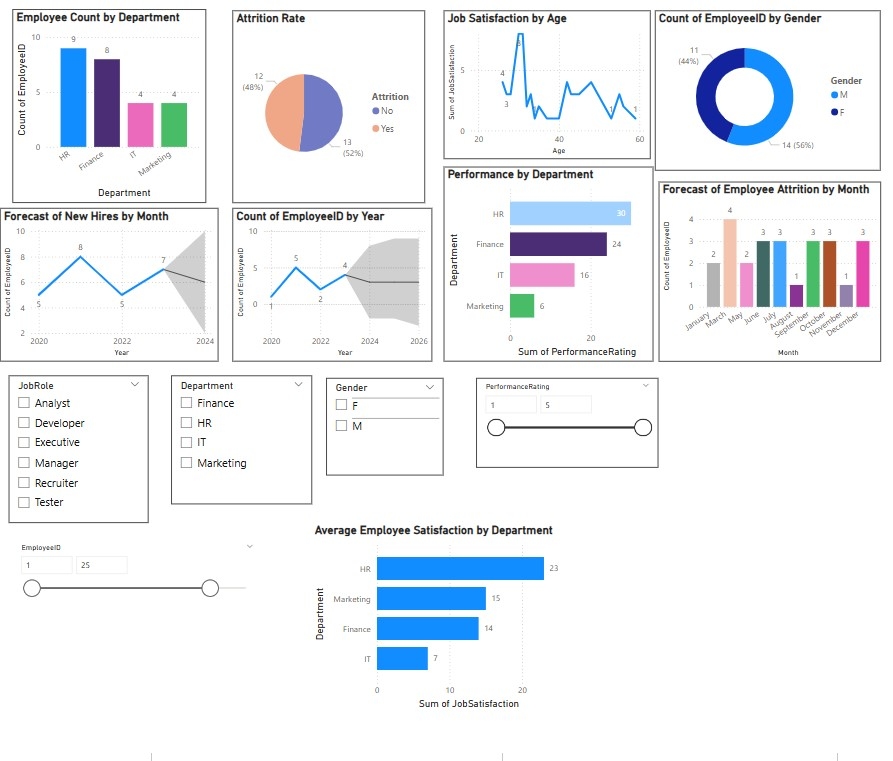

What the dashboard file says about the page in this screenshot:
{"tool":"powerbi","page":{"name":"Human Resources Analytics -1","canvas":[1300,1100],"ordinal":0},"visuals":[{"type":"clusteredColumnChart","title":"Employee Count by Department","fields":{"Category":["Sheet1.Department"],"Y":["CountNonNull(Sheet1.EmployeeID)"]},"box":[19,16.6,281.4,281.4],"z":0},{"type":"pieChart","title":"Attrition Rate","fields":{"Category":["Sheet1.Attrition"],"Y":["CountNonNull(Sheet1.EmployeeID)"]},"box":[337.6,17.8,279.9,279.9],"z":1000},{"type":"clusteredBarChart","title":"Performance by Department","fields":{"Category":["Sheet1.Department"],"Y":["Sum(Sheet1.PerformanceRating)"]},"box":[645.8,244.9,304.8,283],"z":2000},{"type":"lineChart","title":"Job Satisfaction by Age","fields":{"Category":["Sheet1.Age"],"Y":["Sum(Sheet1.JobSatisfaction)"]},"box":[645.8,18.1,301.1,215.9],"z":3000},{"type":"donutChart","fields":{"Category":["Sheet1.Gender"],"Y":["CountNonNull(Sheet1.EmployeeID)"]},"box":[952.3,17.8,327.7,232.7],"z":4000},{"type":"slicer","fields":{"Values":["Sheet1.Department"]},"box":[248.5,549.6,205,186.8],"z":5000},{"type":"clusteredColumnChart","title":"Forecast of Employee Attrition by Month","fields":{"Category":["Sheet1.HireDate.Variation.Date Hierarchy.Month"],"Y":["CountNonNull(Sheet1.EmployeeID)"]},"box":[957.8,266.7,322.9,261.2],"z":6000},{"type":"lineChart","fields":{"Category":["Sheet1.HireDate.Variation.Date Hierarchy.Year","Sheet1.HireDate.Variation.Date Hierarchy.Quarter","Sheet1.HireDate.Variation.Date Hierarchy.Month","Sheet1.HireDate.Variation.Date Hierarchy.Day"],"Y":["CountNonNull(Sheet1.EmployeeID)"]},"box":[337.4,304.8,290.2,223.1],"z":7000},{"type":"lineChart","title":"Forecast of New Hires by Month","fields":{"Category":["Sheet1.HireDate.Variation.Date Hierarchy.Year","Sheet1.HireDate.Variation.Date Hierarchy.Quarter","Sheet1.HireDate.Variation.Date Hierarchy.Month","Sheet1.HireDate.Variation.Date Hierarchy.Day"],"Y":["CountNonNull(Sheet1.EmployeeID)"]},"box":[0,304.8,317.5,223.1],"z":8000},{"type":"slicer","fields":{"Values":["Sheet1.JobRole"]},"box":[12.7,549.6,203.2,214.1],"z":9000},{"type":"slicer","fields":{"Values":["Sheet1.Gender"]},"box":[475.3,553.3,170.5,141.5],"z":10000},{"type":"slicer","fields":{"Values":["Sheet1.PerformanceRating"]},"box":[693,553.3,264.8,130.6],"z":11000},{"type":"clusteredBarChart","title":"Average Employee Satisfaction by Department","fields":{"Category":["Human Resources Analytics.Department"],"Y":["Sum(Human Resources Analytics.JobSatisfaction)"]},"box":[453.5,763.7,375.5,275.7],"z":12000},{"type":"slicer","fields":{"Values":["Human Resources Analytics.EmployeeID"]},"box":[18.1,787.3,362.8,128.8],"z":13000}]}

Visuals, with their boxes in screenshot pixels (x1, y1, x2, y2), scaled from the page's 1300x1100 canvas onto the 893x761 screenshot:
"Employee Count by Department" clusteredColumnChart: select_region(13, 11, 206, 206)
"Attrition Rate" pieChart: select_region(232, 12, 424, 206)
"Performance by Department" clusteredBarChart: select_region(444, 169, 653, 365)
"Job Satisfaction by Age" lineChart: select_region(444, 13, 650, 162)
donutChart - Sheet1.Gender x CountNonNull(Sheet1.EmployeeID): select_region(654, 12, 879, 173)
slicer - Sheet1.Department: select_region(171, 380, 312, 509)
"Forecast of Employee Attrition by Month" clusteredColumnChart: select_region(658, 185, 880, 365)
lineChart - Sheet1.HireDate.Variation.Date Hierarchy.Year x Sheet1.HireDate.Variation.Date Hierarchy.Quarter: select_region(232, 211, 431, 365)
"Forecast of New Hires by Month" lineChart: select_region(0, 211, 218, 365)
slicer - Sheet1.JobRole: select_region(9, 380, 148, 528)
slicer - Sheet1.Gender: select_region(326, 383, 444, 481)
slicer - Sheet1.PerformanceRating: select_region(476, 383, 658, 473)
"Average Employee Satisfaction by Department" clusteredBarChart: select_region(312, 528, 569, 719)
slicer - Human Resources Analytics.EmployeeID: select_region(12, 545, 262, 634)
